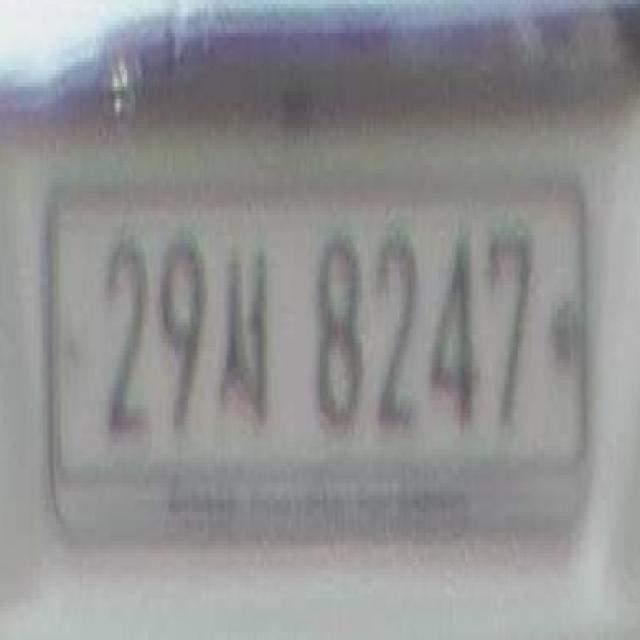plat: (45, 174, 591, 545)
